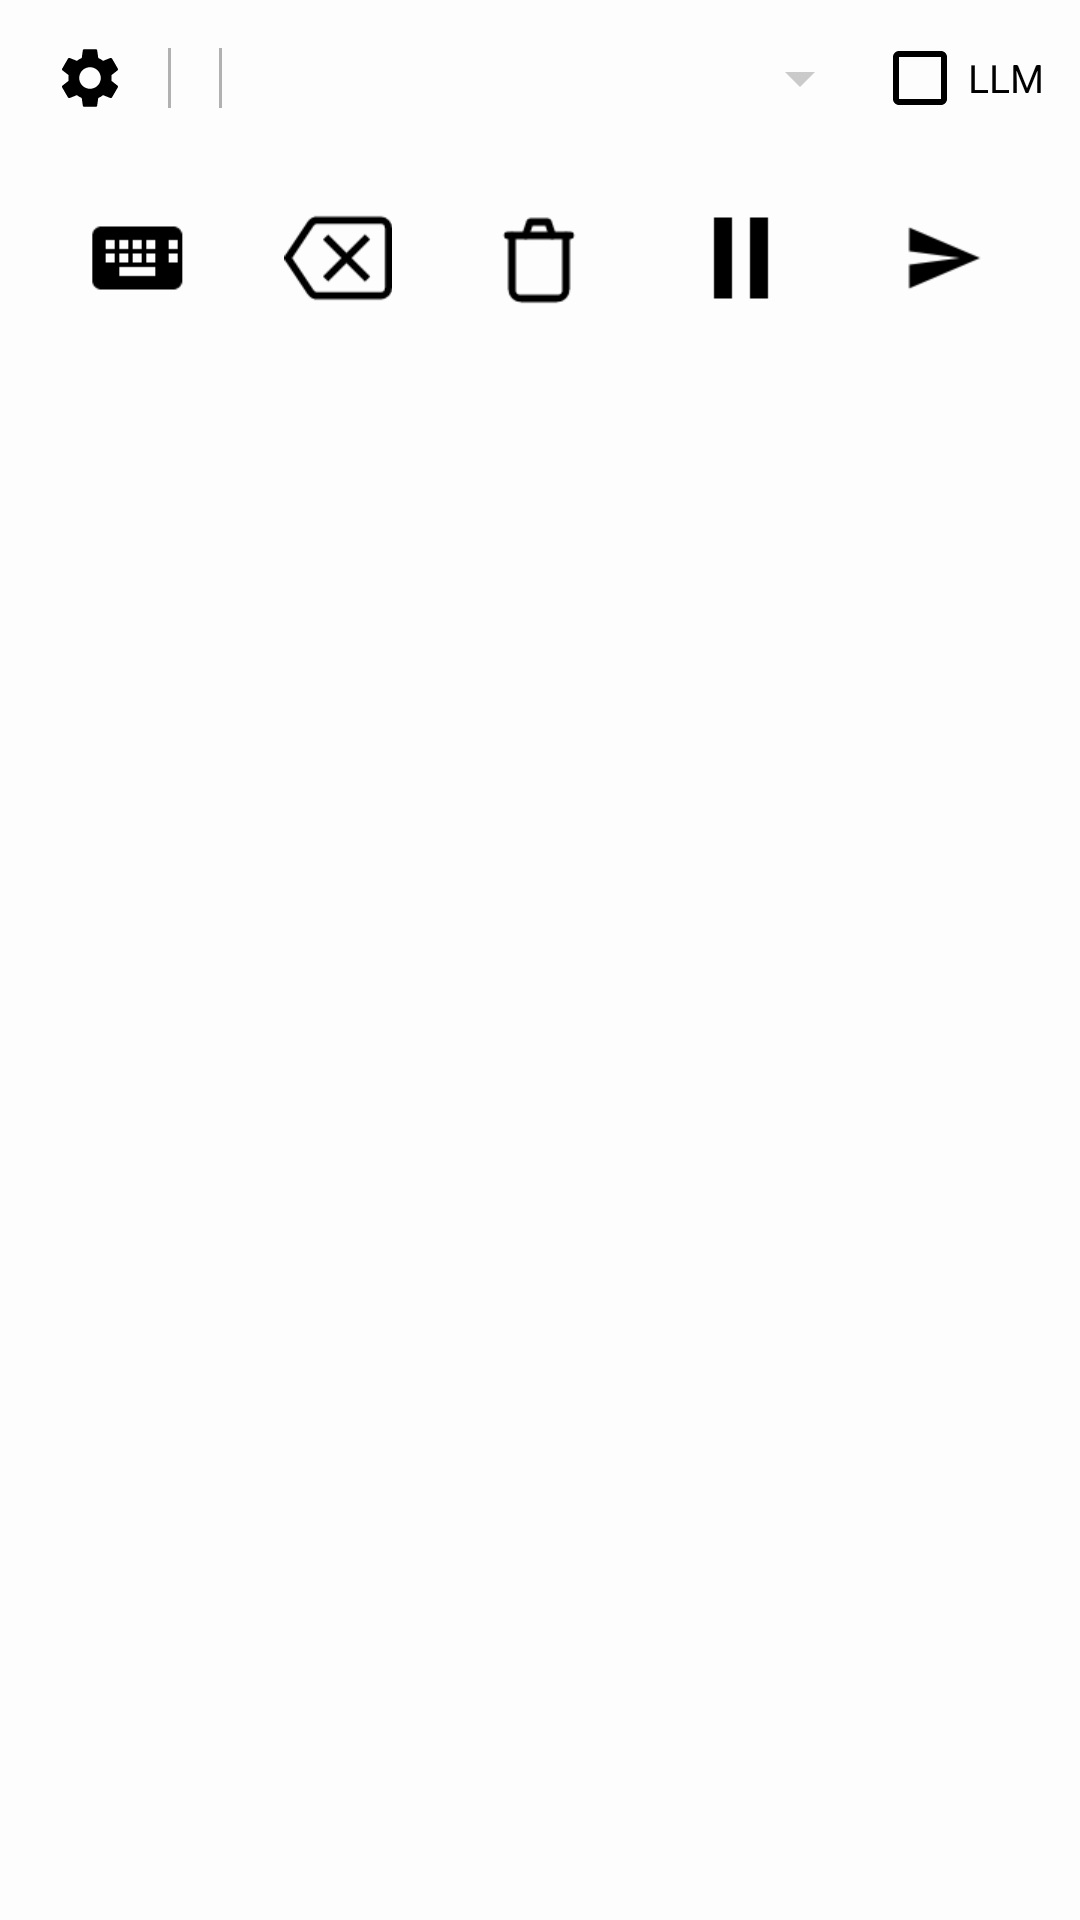

Icons on this 1080x1920 Android screen, each with the point to tap as point (x, y):
Settings: point (90, 78)
